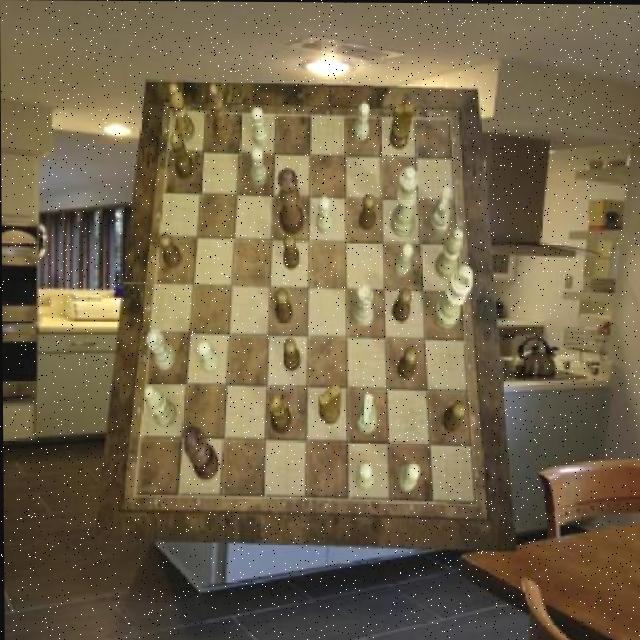bishop: (170, 83, 195, 141), (208, 83, 231, 139)
black-bishop: (184, 426, 220, 480)
black-king: (390, 104, 415, 149), (317, 384, 340, 425)
black-knight: (158, 233, 182, 270), (442, 401, 466, 433), (393, 287, 413, 322), (398, 347, 418, 381), (275, 289, 293, 324), (360, 193, 377, 230), (282, 339, 300, 373), (283, 234, 300, 270)
black-pawn: (278, 168, 304, 234)
black-queen: (170, 132, 195, 181), (270, 394, 291, 434)
black-rook: (435, 227, 463, 278), (144, 386, 177, 428)
white-bishop: (433, 264, 473, 329)
white-king: (429, 185, 452, 235), (355, 393, 377, 434)
white-knight: (197, 340, 221, 375), (394, 242, 414, 278), (251, 106, 269, 146), (397, 461, 420, 492), (355, 102, 372, 142), (250, 148, 267, 186), (317, 196, 334, 233), (356, 462, 374, 490)
white-pawn: (390, 165, 420, 236)
white-queen: (146, 329, 176, 371), (353, 283, 373, 326)
